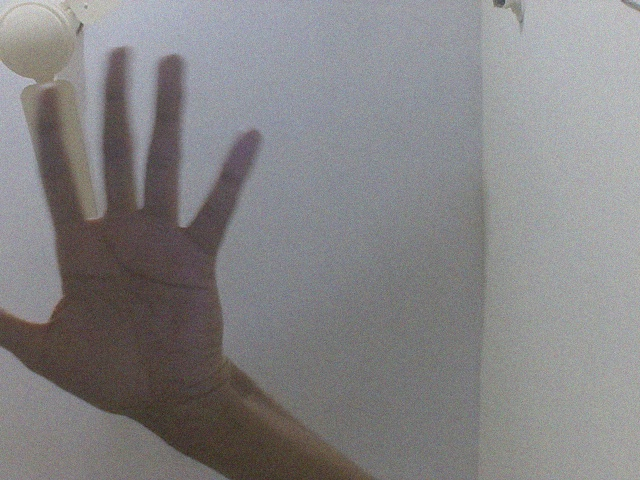hand: (2, 40, 285, 420)
